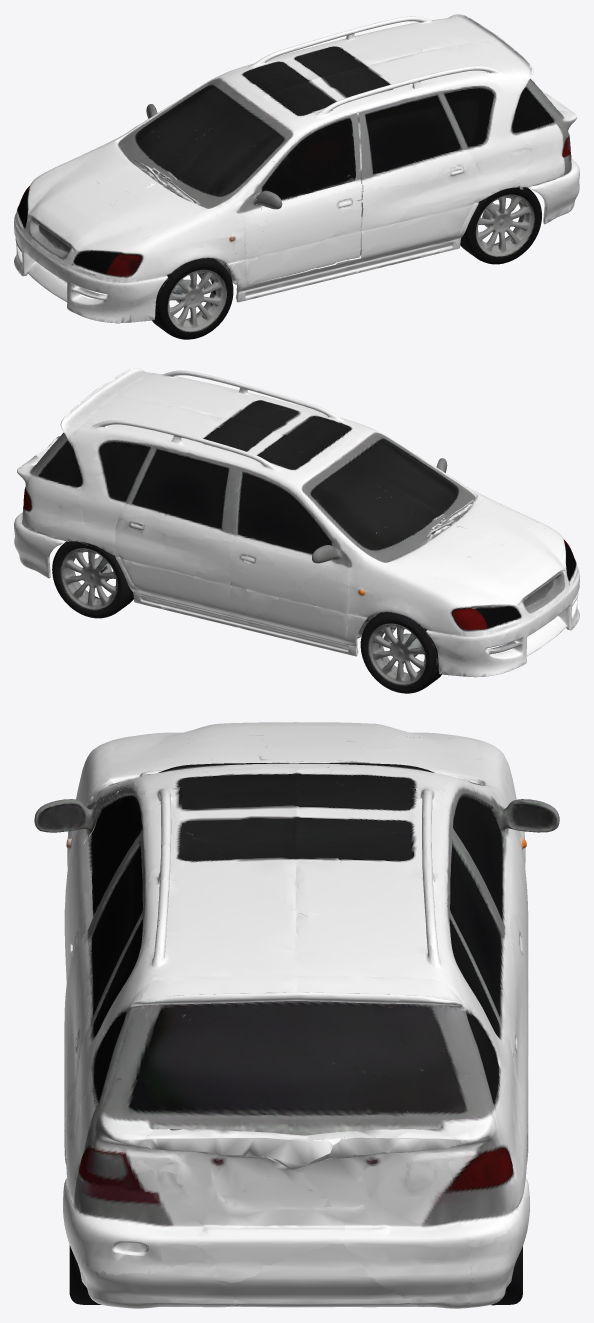
The model's file is ipsum_3D.glb.
3 views of the same model, one above another, from view 1: azimuth 30°, elevation 25°; view 2: azimuth 150°, elevation 25°; view 3: azimuth 270°, elevation 25° (orthographic). The views are drawn at different scales.
Visible parts, largest first — view 1: Car_body, Door_RL, Capot, Door_FL, Wheel_FL, Wheel_RL, Door_5; view 2: Car_body, Door_RR, Door_FR, Capot, Wheel_FR, Wheel_RR, Door_5; view 3: Car_body, Door_5, Capot, Door_RR, Door_FR, Door_RL, Door_FL.
Boxes of the visible parts, bbox=[...] form: Car_body: bbox=[14, 14, 579, 339]; Door_RL: bbox=[358, 94, 478, 257]; Capot: bbox=[25, 140, 206, 265]; Door_FL: bbox=[245, 113, 362, 284]; Wheel_FL: bbox=[159, 261, 232, 339]; Wheel_RL: bbox=[468, 187, 541, 263]; Door_5: bbox=[441, 16, 577, 134]; Car_body: bbox=[14, 368, 579, 693]; Door_RR: bbox=[115, 445, 236, 616]; Door_FR: bbox=[230, 468, 348, 643]; Capot: bbox=[384, 496, 567, 617]; Wheel_FR: bbox=[360, 614, 434, 693]; Wheel_RR: bbox=[52, 541, 126, 618]; Door_5: bbox=[17, 370, 151, 491]; Car_body: bbox=[35, 737, 556, 1308]; Door_5: bbox=[93, 972, 503, 1233]; Capot: bbox=[108, 722, 485, 784]; Door_RR: bbox=[447, 830, 528, 1127]; Door_FR: bbox=[450, 789, 559, 1016]; Door_RL: bbox=[64, 832, 145, 1131]; Door_FL: bbox=[34, 789, 136, 983].
Bounding box in the file's own units: 1.9 × 0.6818 × 0.873.
1 material, 1 textured.
